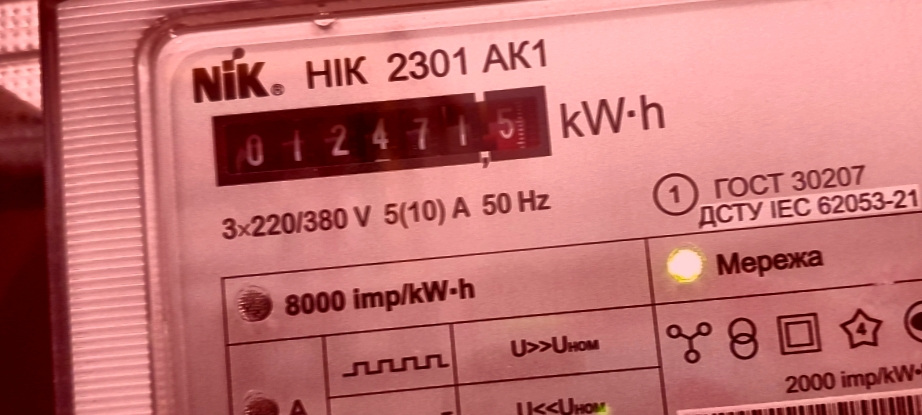0: (242, 131, 267, 169)
1: (291, 128, 305, 164), (456, 112, 469, 149)
2: (329, 122, 352, 160)
4: (370, 116, 391, 154)
5: (495, 104, 519, 143)
7: (409, 114, 432, 154)
screen: (201, 77, 565, 197)
